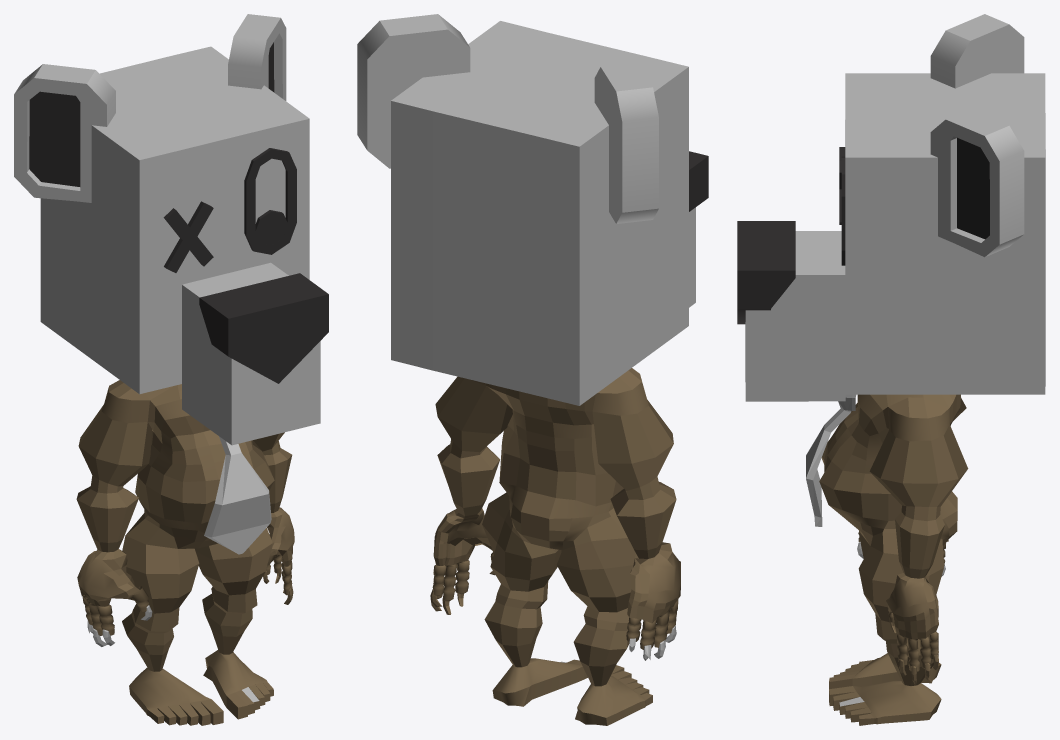
The model's file is MIASHKA_balvonas.fbx.
3 views of the same model, side by side, from view 1: azimuth 30°, elevation 25°; view 2: azimuth 150°, elevation 25°; view 3: azimuth 270°, elevation 25° (orthographic). The views are drawn at different scales.
Visible parts, largest first — view 1: pCube1, Plane001, pCube7, pCube2, pCube9, pCube8, pCylinder9, pCube6, pCylinder1; view 2: pCube1, Plane001, pCube8, pCube7, pCube2; view 3: pCube1, Plane001, pCube8, pCube7, pCube2, pCube9, pCylinder9.
Boxes of the visible parts, box(x1,y1,x2,y2) form: pCube1: box(40, 46, 320, 445); Plane001: box(76, 380, 294, 725); pCube7: box(14, 64, 115, 202); pCube2: box(199, 273, 328, 383); pCube9: box(204, 436, 271, 554); pCube8: box(228, 14, 286, 100); pCylinder9: box(244, 148, 296, 254); pCube6: box(163, 201, 213, 272); pCylinder1: box(255, 210, 287, 245); pCube1: box(391, 21, 695, 405); Plane001: box(430, 368, 680, 725); pCube8: box(357, 14, 470, 168); pCube7: box(594, 62, 658, 223); pCube2: box(689, 151, 708, 211); pCube1: box(745, 73, 1045, 401); Plane001: box(819, 394, 968, 725); pCube8: box(930, 109, 1024, 257); pCube7: box(930, 14, 1024, 88); pCube2: box(737, 221, 795, 324); pCube9: box(806, 394, 856, 526); pCylinder9: box(841, 156, 845, 265).
Bounding box in the file's own units: 45.68 × 98.8 × 44.26.
